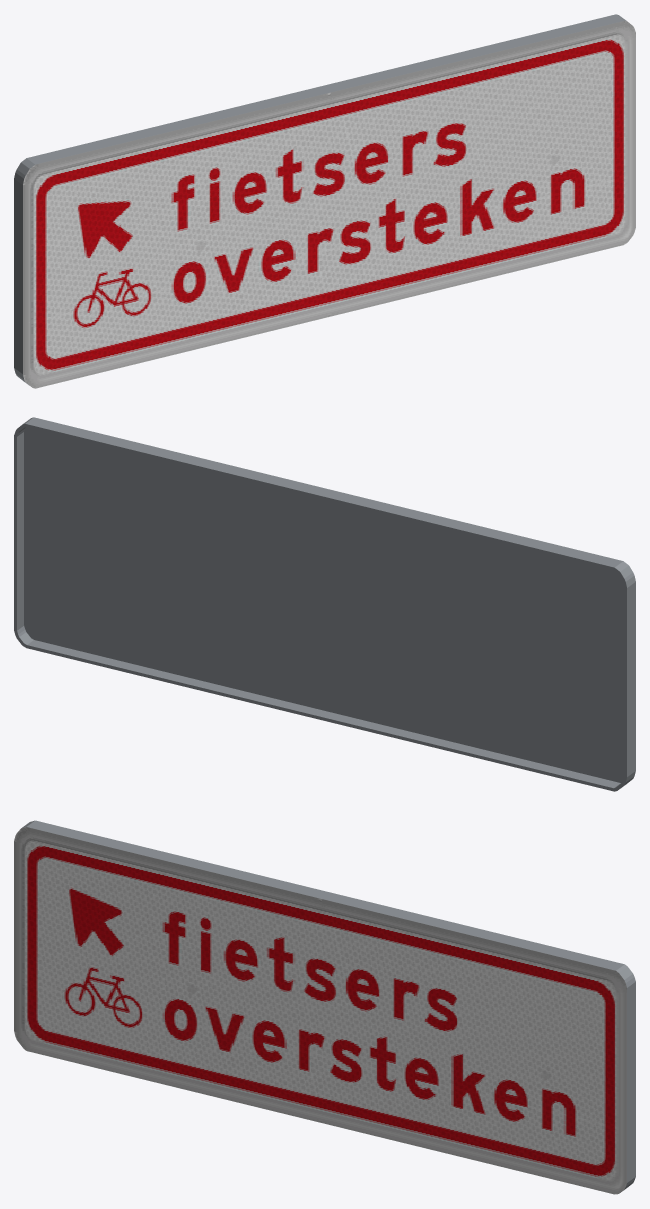
3 renders of one model, top to bottom at view 1: azimuth 30°, elevation 25°; view 2: azimuth 150°, elevation 25°; view 3: azimuth 330°, elevation 25°, orthographic.
Parts seen in each view (by area): view 1: cat_c916eb71de3c01ee; view 2: cat_c916eb71de3c01ee; view 3: cat_c916eb71de3c01ee.
Boxes of the visible parts, <box> form: cat_c916eb71de3c01ee: <box>14,14,635,388</box>; cat_c916eb71de3c01ee: <box>14,417,635,791</box>; cat_c916eb71de3c01ee: <box>14,820,635,1194</box>.
Size of the model in its own units: 0.6 by 0.015 by 0.2095.
2 materials, 1 textured.
